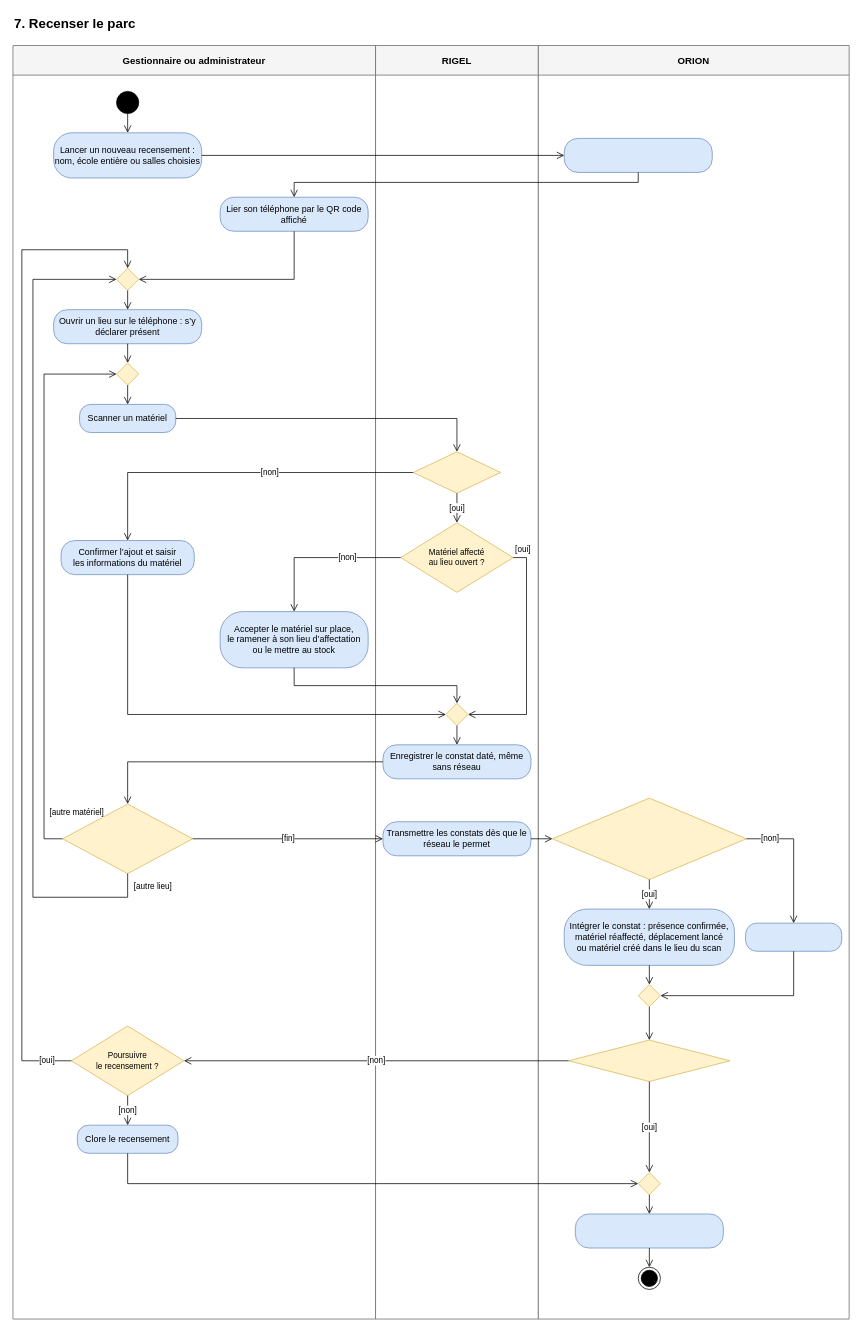
The diagram is 862 pixels wide and 1332 high, and some of its shapes have lost their labels. The centre of each missing label's shape, as x and y in pixels:
"Autre matériel, autre lieu ou fin ?" goes at (x=127, y=838).
"Clore le recensement, sans réouverture possible" goes at (x=649, y=1230).
"Code connu ?" goes at (x=457, y=472).
"Fin — recensement clos, constats conservés" goes at (x=649, y=1278).
"Ouvrir le recensement pour quatorze jours au plus" goes at (x=638, y=155).
"Quatorze jours écoulés ?" goes at (x=649, y=1060).
"Refuser le constat" goes at (x=793, y=936).
"Scan plus récent que la dernière information connue du matériel ?" goes at (x=649, y=838).
